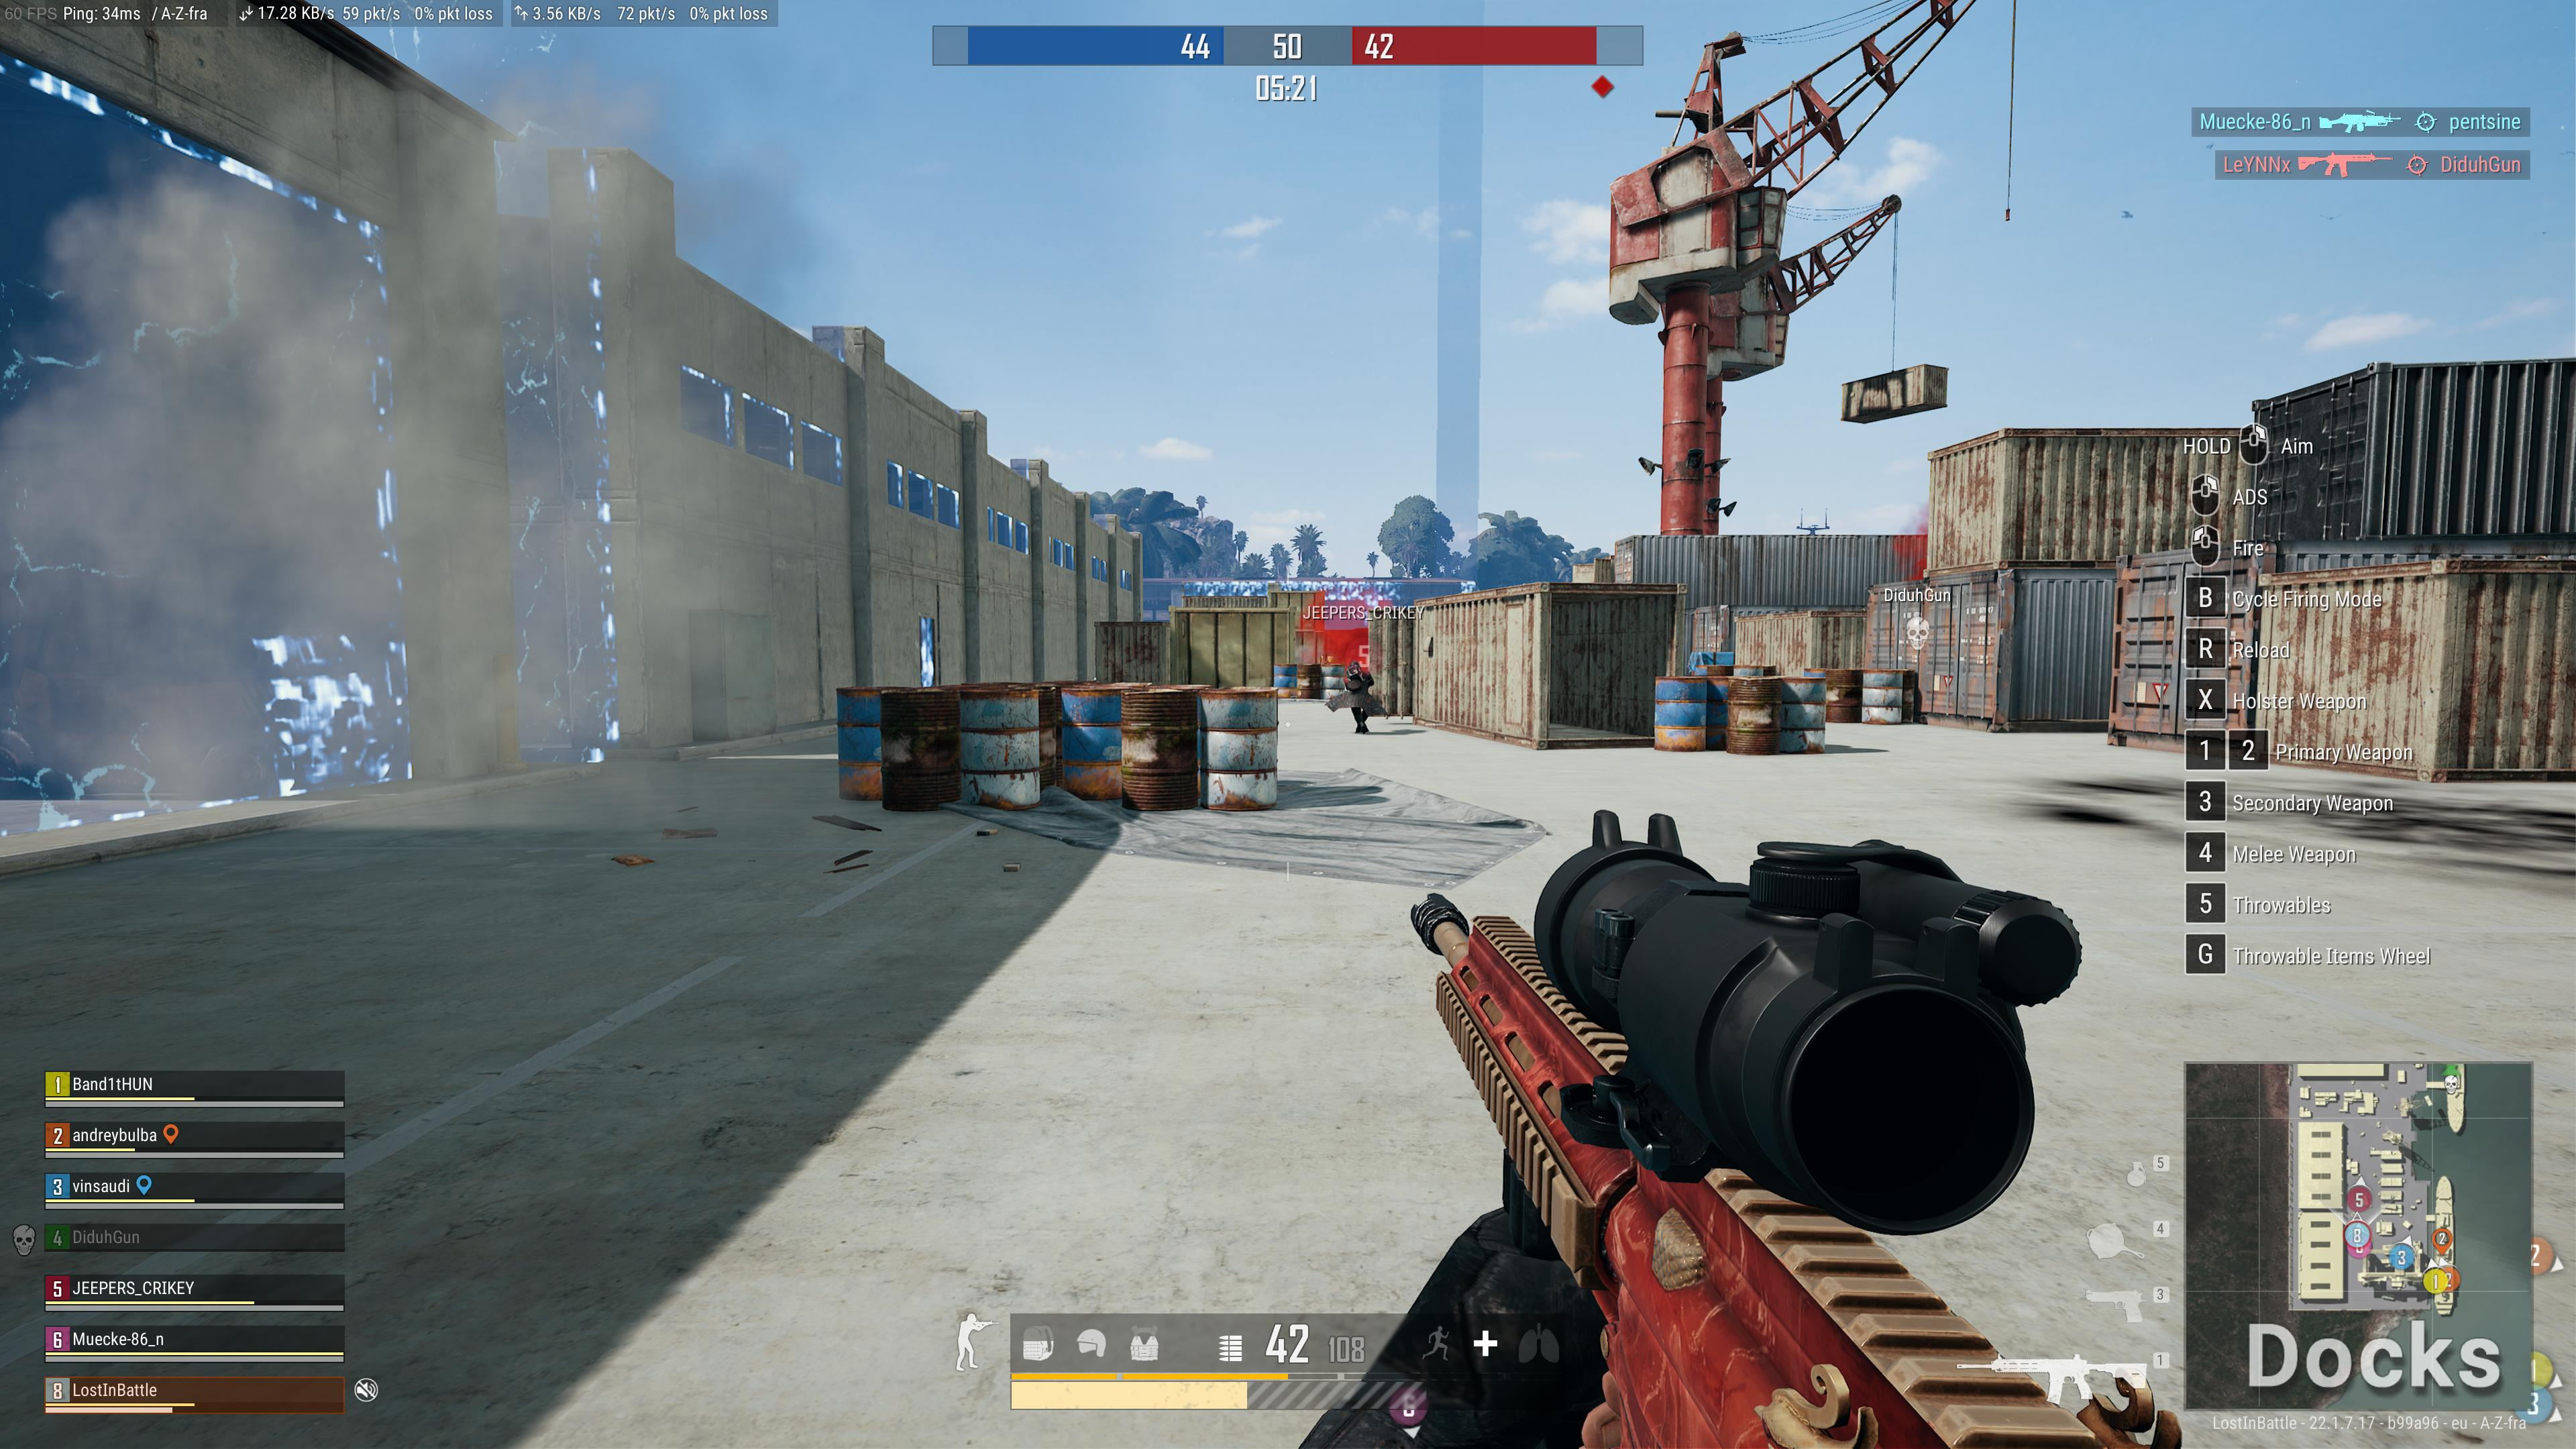friendly: (1339, 648, 1378, 734)
